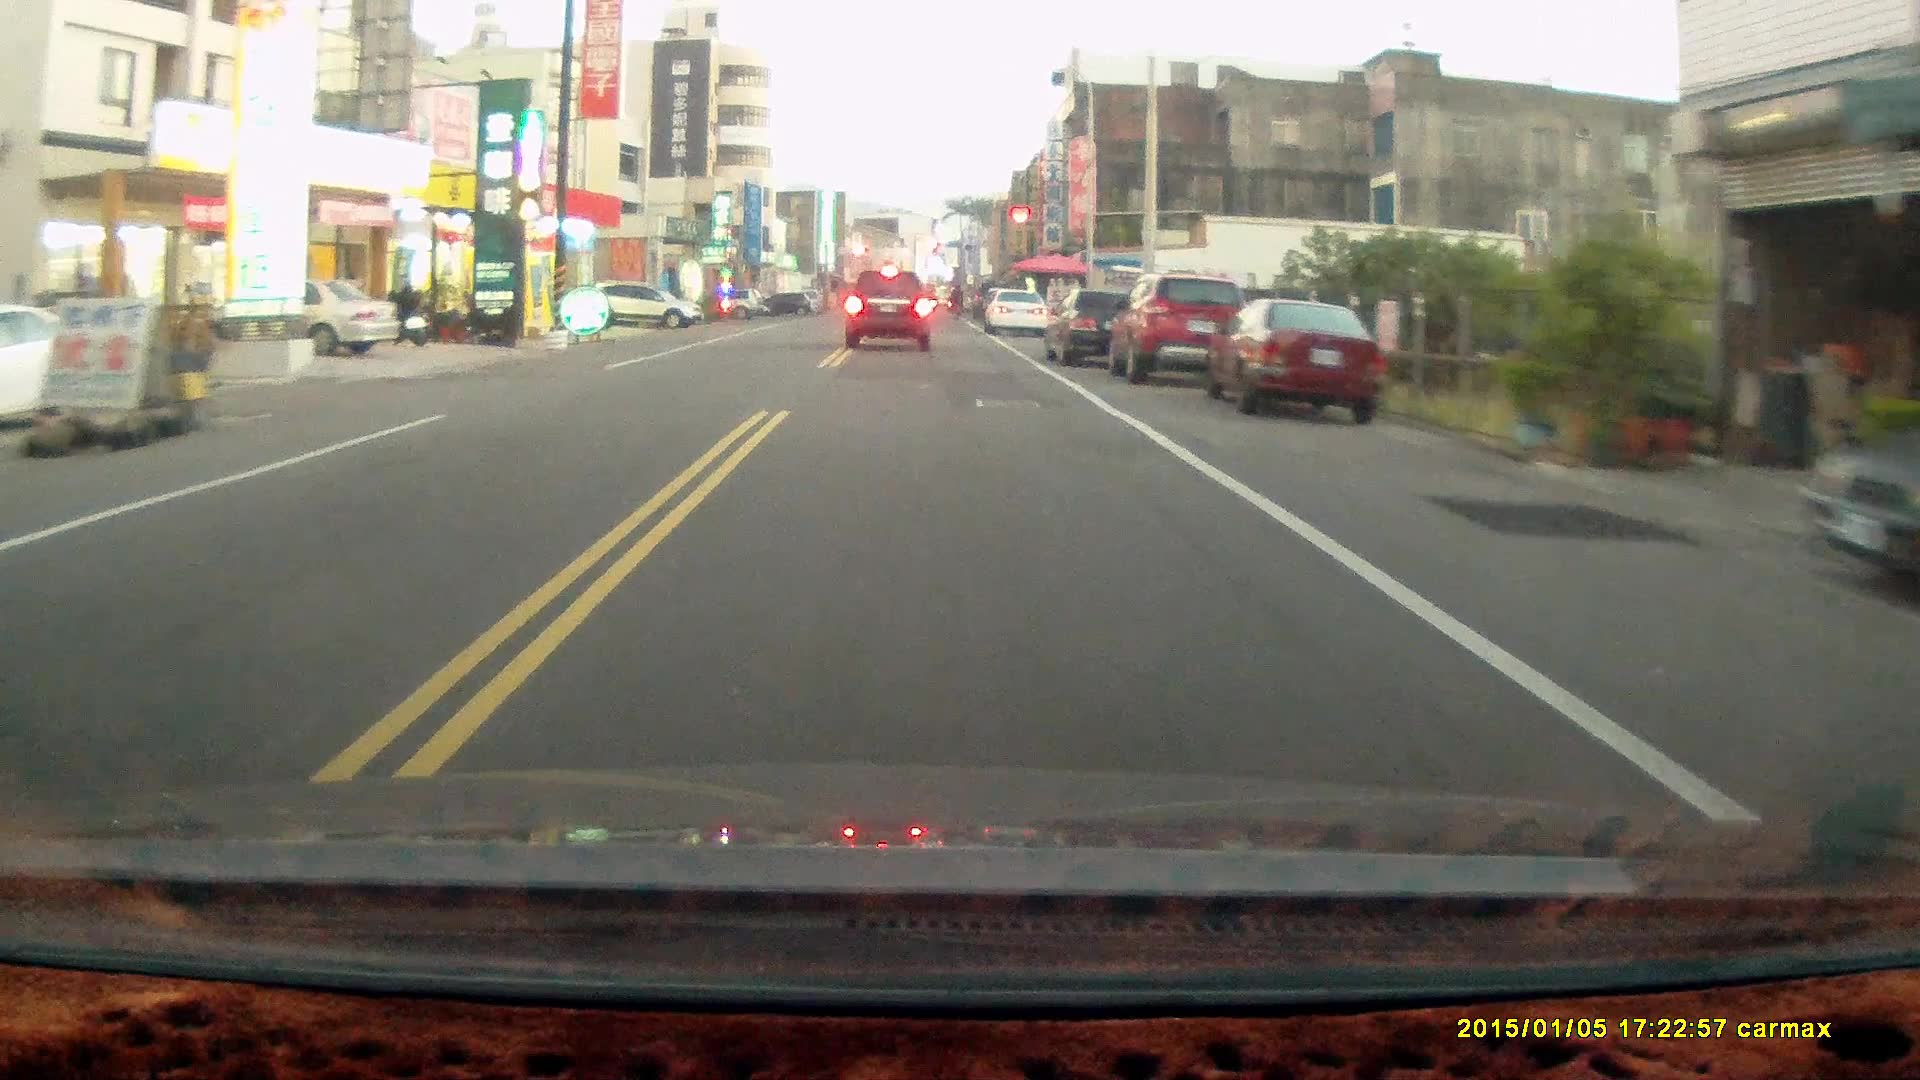vehicle: (1203, 299, 1393, 425), (1110, 276, 1254, 386), (208, 280, 401, 360), (1044, 291, 1162, 369), (844, 272, 935, 353), (593, 280, 699, 328), (984, 289, 1051, 340)
